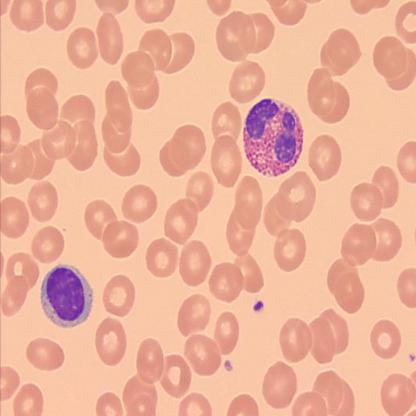Eosinophil: (244, 96, 303, 176)
